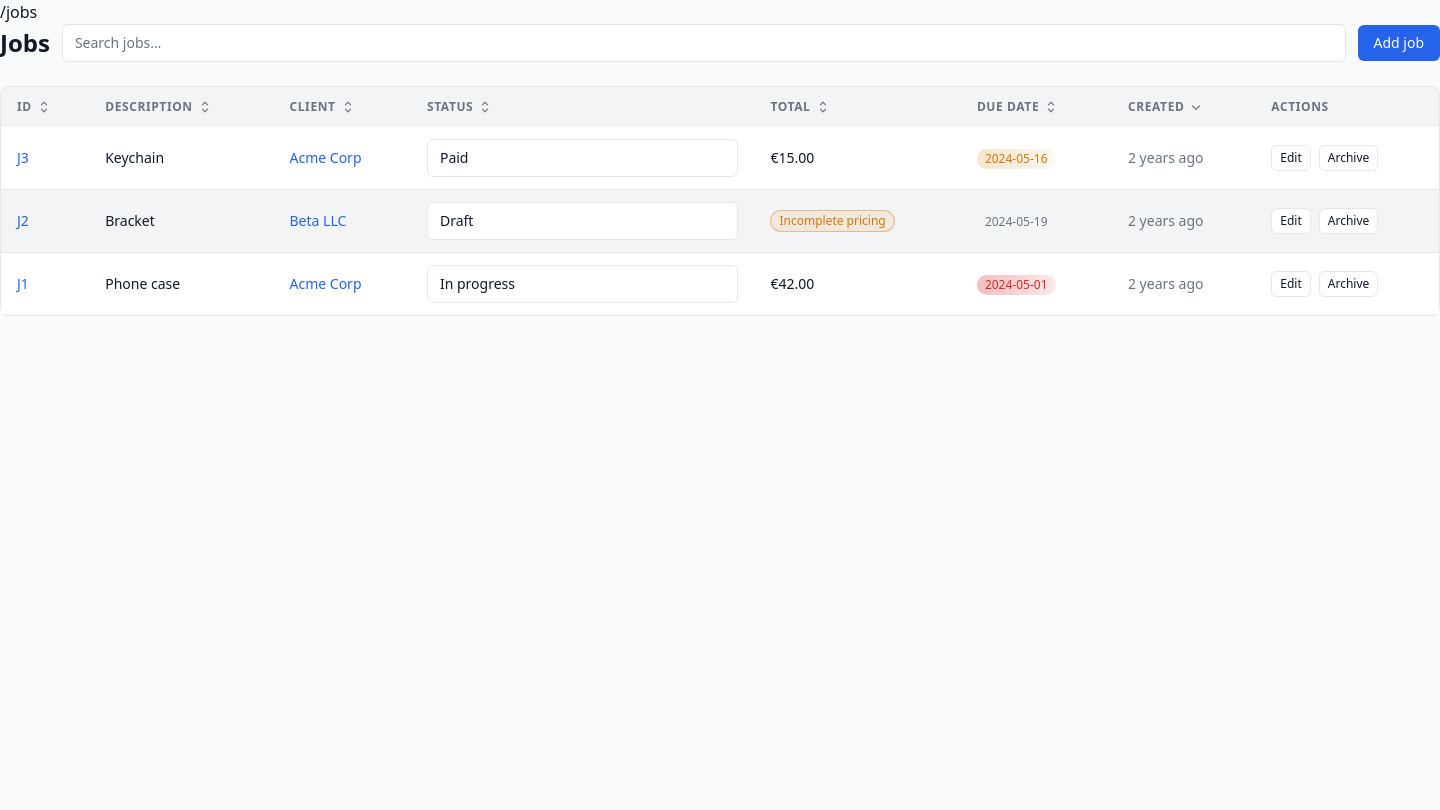
JobsPage › edits a job from its row without navigating
Click the button with test id "job-edit-J1". click: coordinates (1291, 284)
box: [1271,271,1311,297]
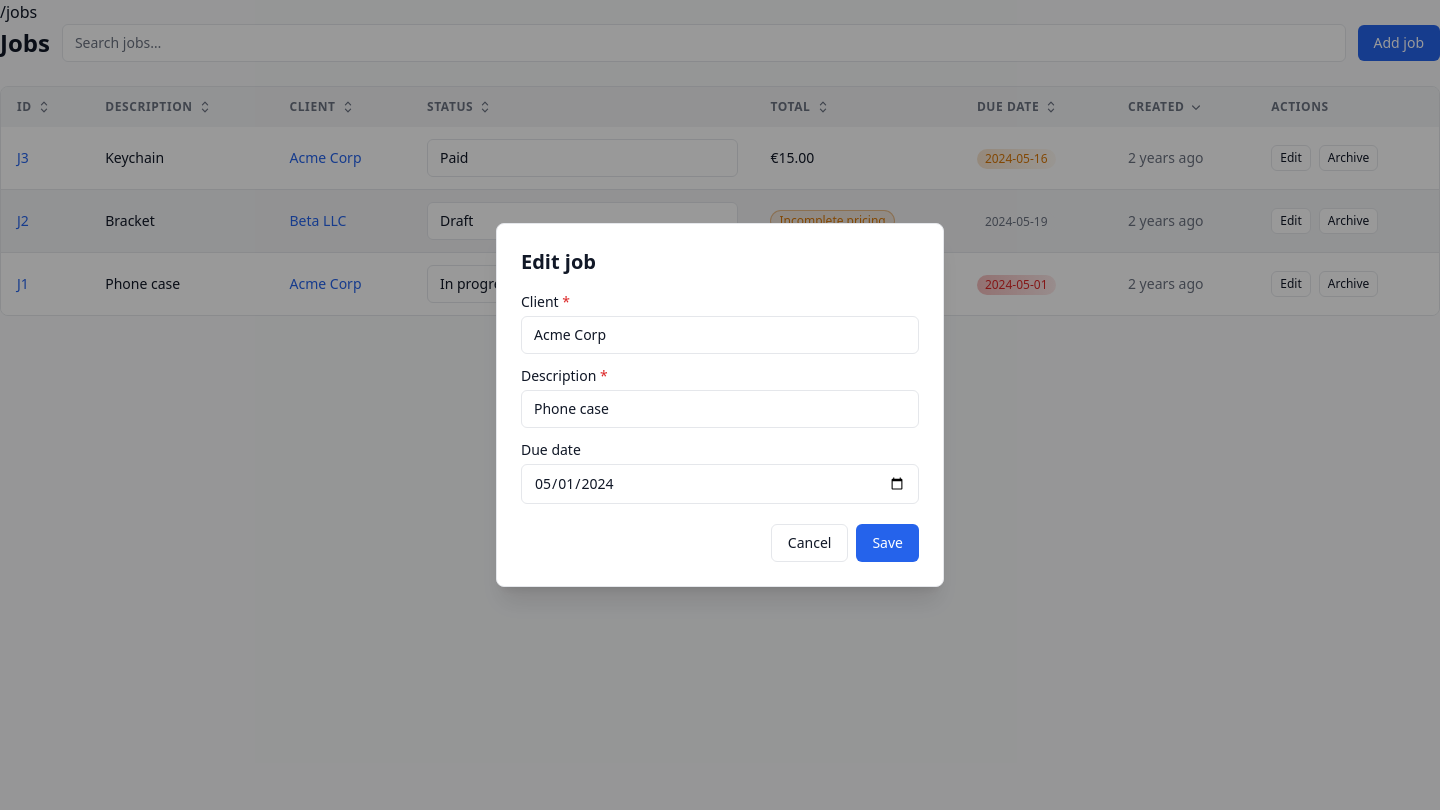
Replace the text in the field labelled "Description *" with "Phone case v2". click: coordinates (720, 409)
box: [521,390,919,428]
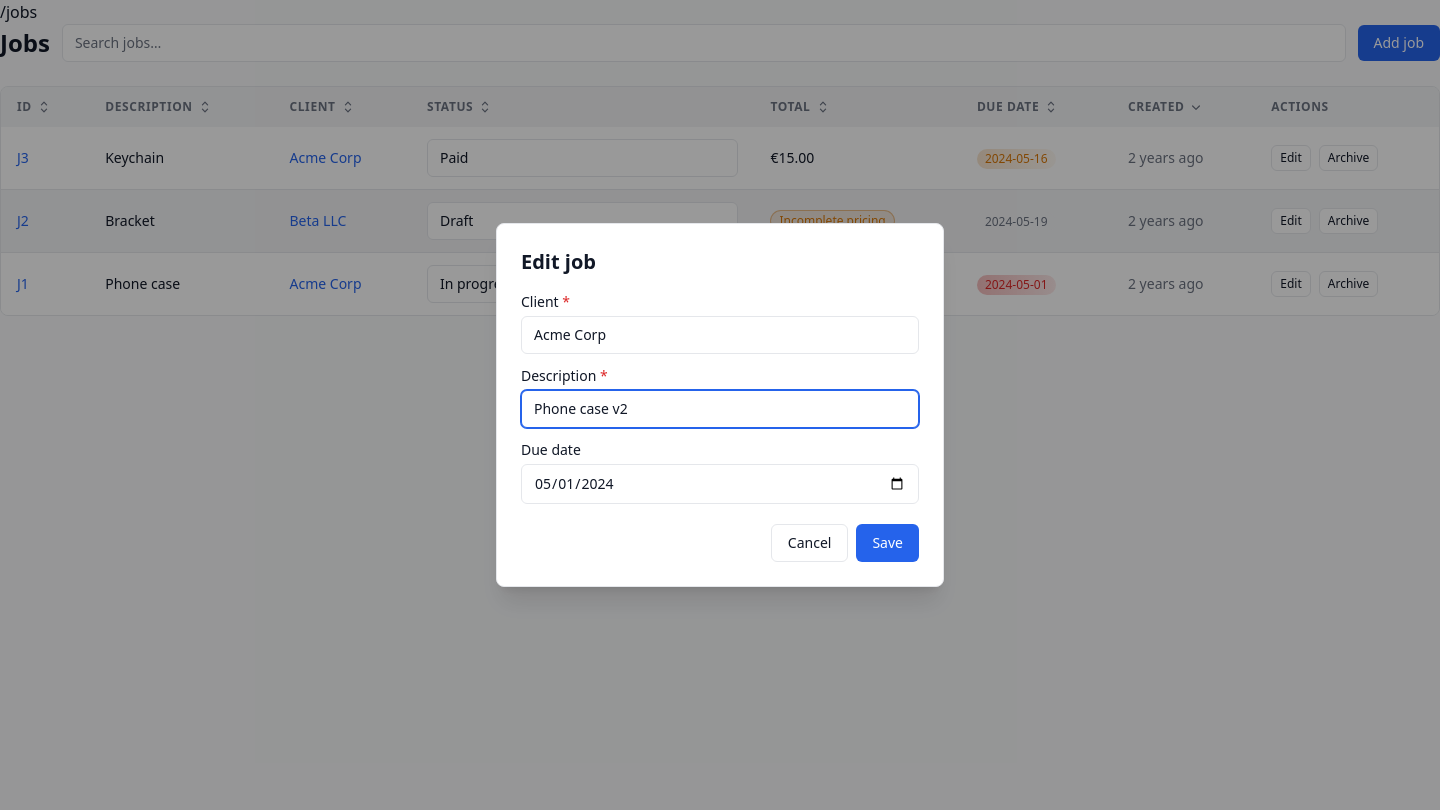
Click the button "Save". click: coordinates (888, 543)
box: [856,524,919,562]
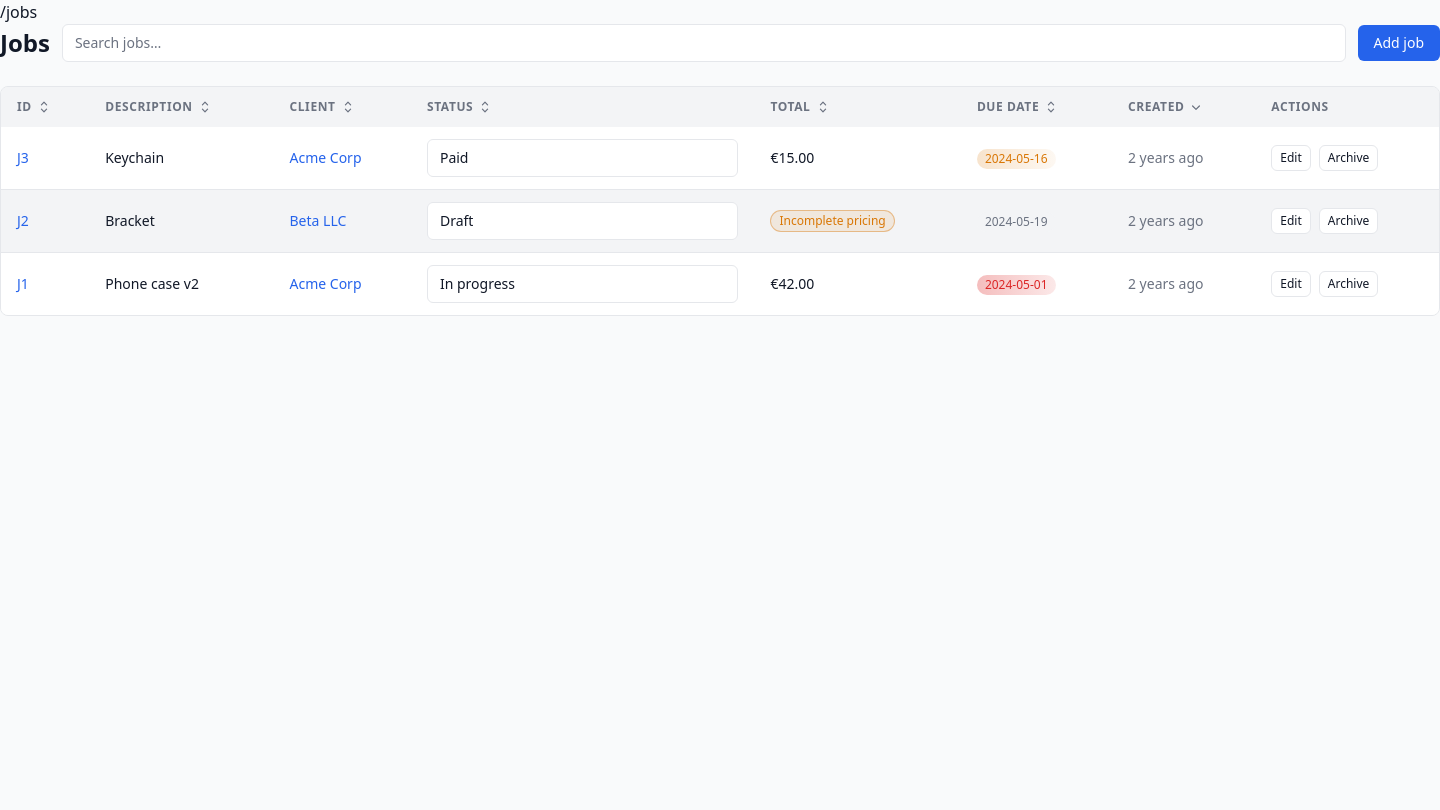
Expected: the text with test id "location" reads "/jobs", [0,1,37,23]
Expected: the cell "Phone case v2" is shown, [89,252,274,315]
